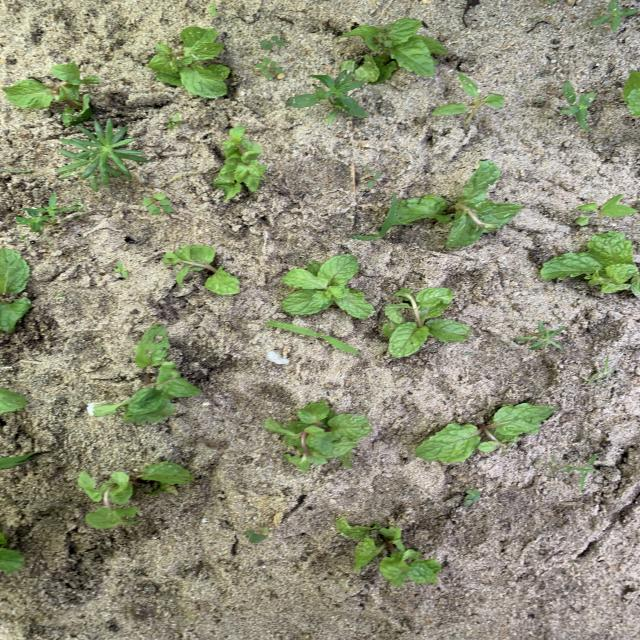crop: (380, 160, 522, 247), (93, 325, 200, 423), (416, 405, 557, 462), (78, 462, 192, 527), (266, 402, 370, 471), (336, 517, 440, 585), (342, 18, 446, 83), (540, 231, 639, 294), (384, 288, 471, 356), (3, 64, 99, 123), (148, 27, 230, 96), (282, 255, 373, 317), (214, 127, 266, 200), (163, 246, 239, 294), (1, 249, 30, 331), (1, 533, 23, 571), (624, 71, 639, 115), (1, 389, 26, 413)
weed: (58, 119, 147, 192), (289, 74, 366, 122), (434, 75, 503, 127), (268, 322, 359, 354), (576, 194, 638, 228), (562, 82, 595, 131), (514, 321, 563, 350), (592, 1, 639, 31), (564, 455, 598, 491), (581, 356, 615, 385), (16, 209, 51, 231), (143, 192, 173, 214), (537, 456, 571, 474), (257, 57, 283, 78), (0, 454, 34, 467), (245, 527, 268, 542), (364, 168, 381, 187), (261, 36, 284, 48), (464, 489, 480, 505), (168, 114, 182, 128), (115, 263, 127, 277), (210, 2, 216, 15)
